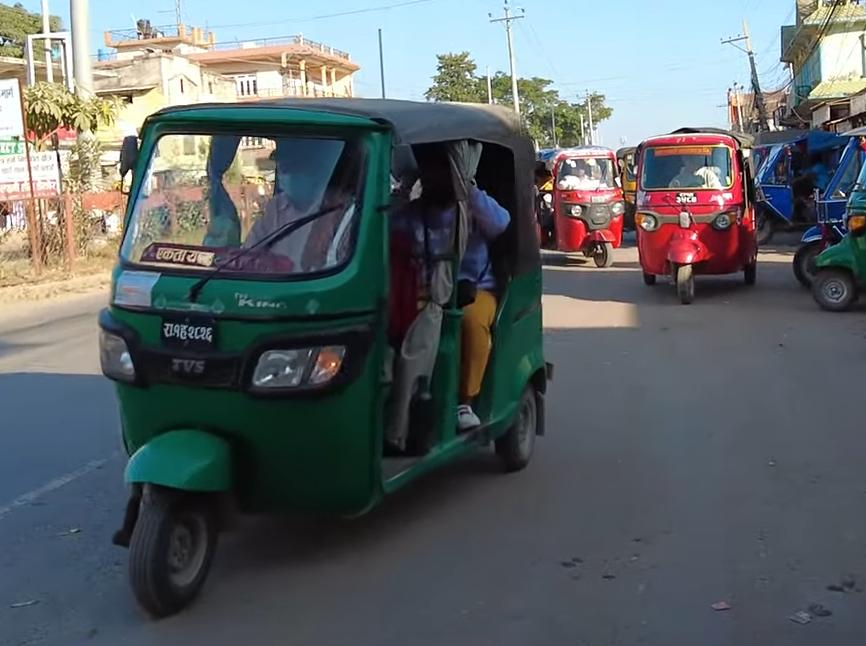auto_rickshaw: (87, 94, 555, 618), (619, 126, 764, 314), (535, 141, 624, 272)
